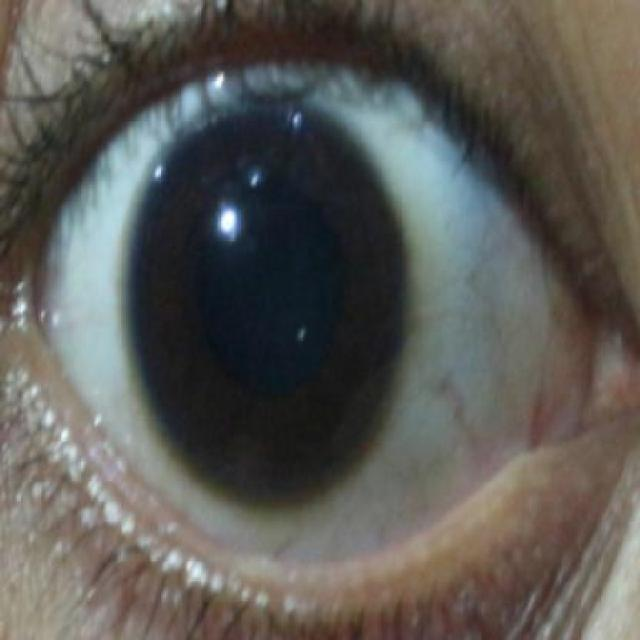Normal: (123, 104, 414, 512)
